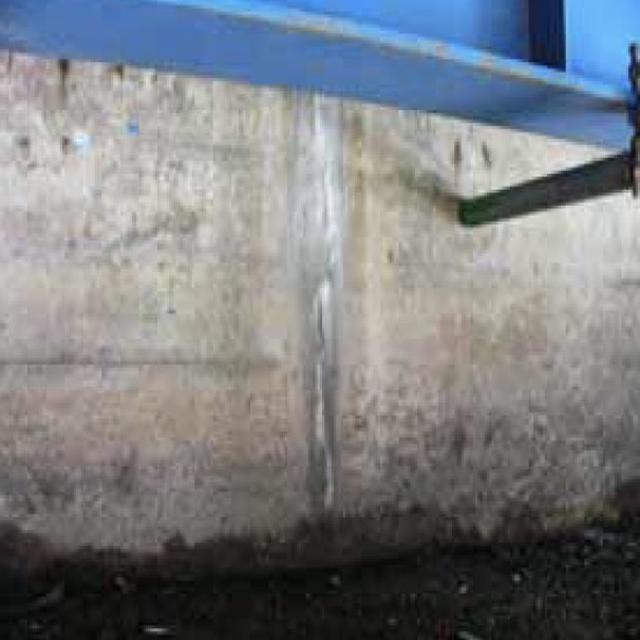freelime: (284, 83, 376, 513)
